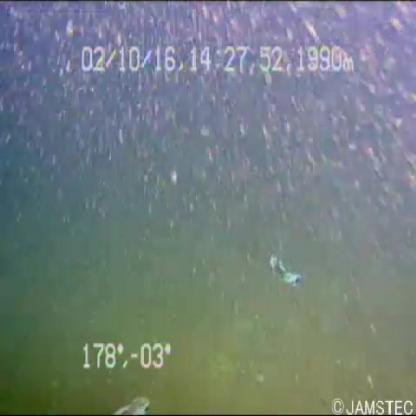Rác: (98, 368, 165, 416), (258, 252, 317, 305)
